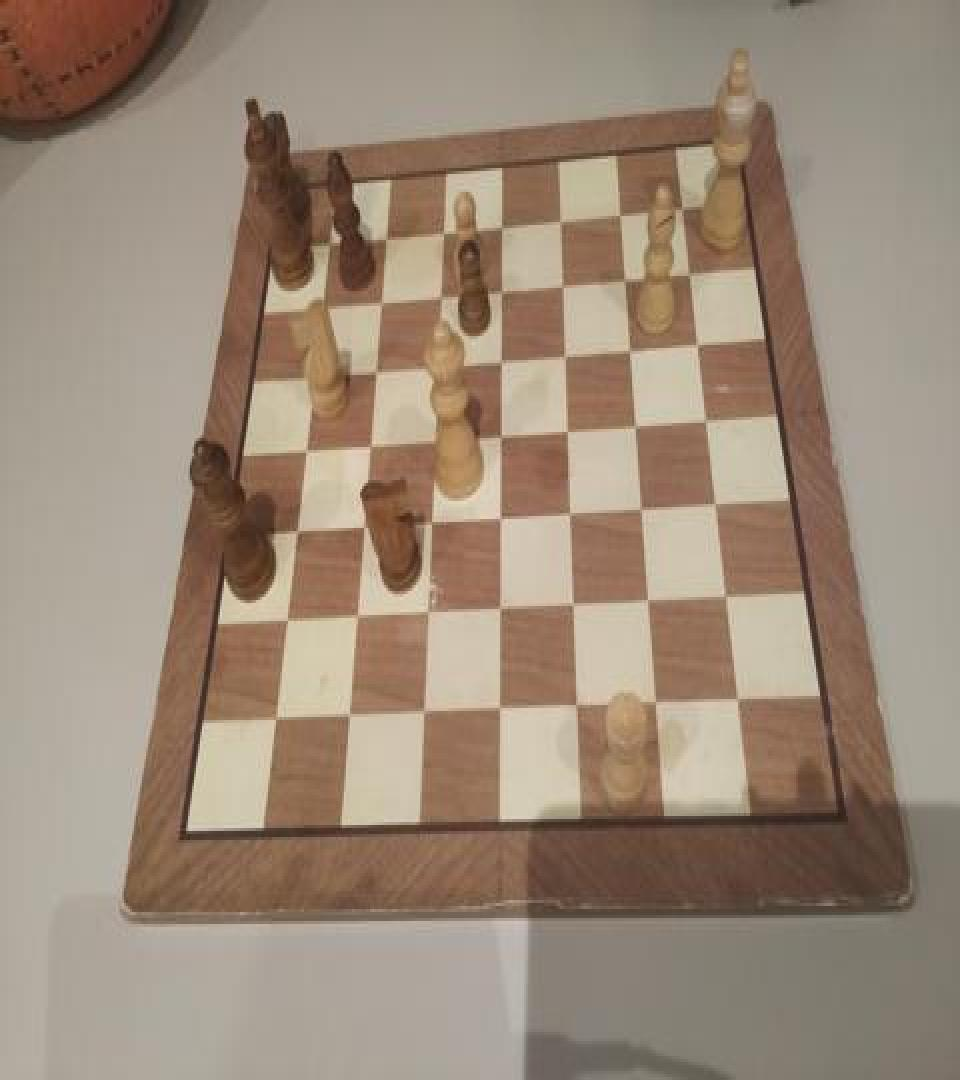xcorner: (315, 223, 335, 254), (265, 706, 285, 736), (416, 700, 436, 730), (572, 694, 592, 724), (652, 692, 672, 722), (347, 604, 367, 634), (420, 600, 440, 630), (493, 597, 513, 627), (568, 594, 588, 624), (644, 590, 664, 620), (285, 518, 305, 548), (353, 513, 373, 543), (423, 508, 443, 538), (493, 506, 513, 536), (564, 501, 584, 531), (636, 496, 656, 526), (710, 494, 730, 524), (293, 434, 313, 464), (359, 430, 379, 460), (425, 426, 445, 456), (493, 422, 513, 452), (561, 417, 581, 447), (630, 412, 650, 442), (700, 408, 720, 438), (301, 358, 321, 388), (364, 354, 384, 384), (428, 350, 448, 380), (493, 345, 513, 375), (558, 340, 578, 370), (624, 334, 644, 364), (691, 330, 711, 360), (309, 288, 329, 318), (369, 284, 389, 314), (430, 279, 450, 309), (492, 274, 512, 304), (555, 268, 575, 298), (618, 264, 638, 294), (682, 260, 702, 290), (374, 219, 394, 249), (432, 213, 452, 243), (492, 208, 512, 238), (552, 204, 572, 234), (613, 198, 633, 228), (675, 194, 695, 224), (340, 704, 360, 733), (494, 698, 514, 727), (732, 689, 752, 718), (275, 608, 295, 637), (720, 587, 740, 616)
